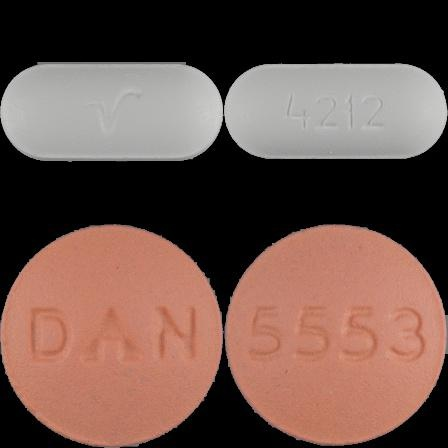63739-167: (0, 0, 224, 224)
